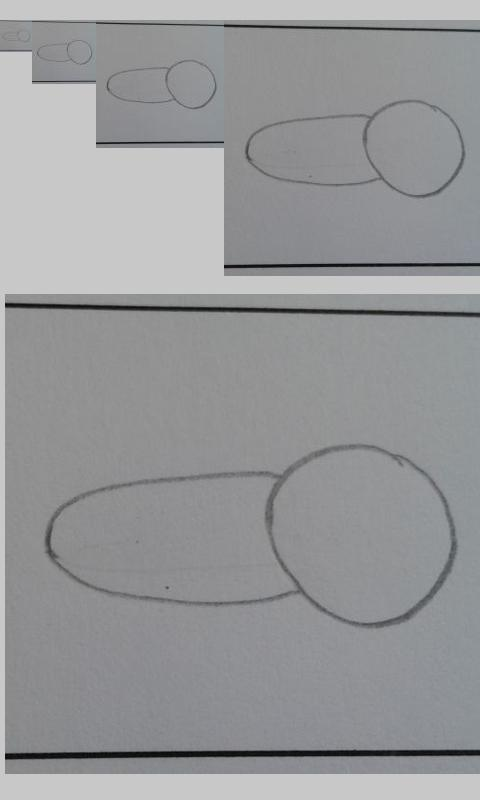switch: (45, 443, 458, 629), (244, 99, 466, 199), (106, 59, 218, 110), (36, 39, 93, 65), (1, 29, 31, 42)
